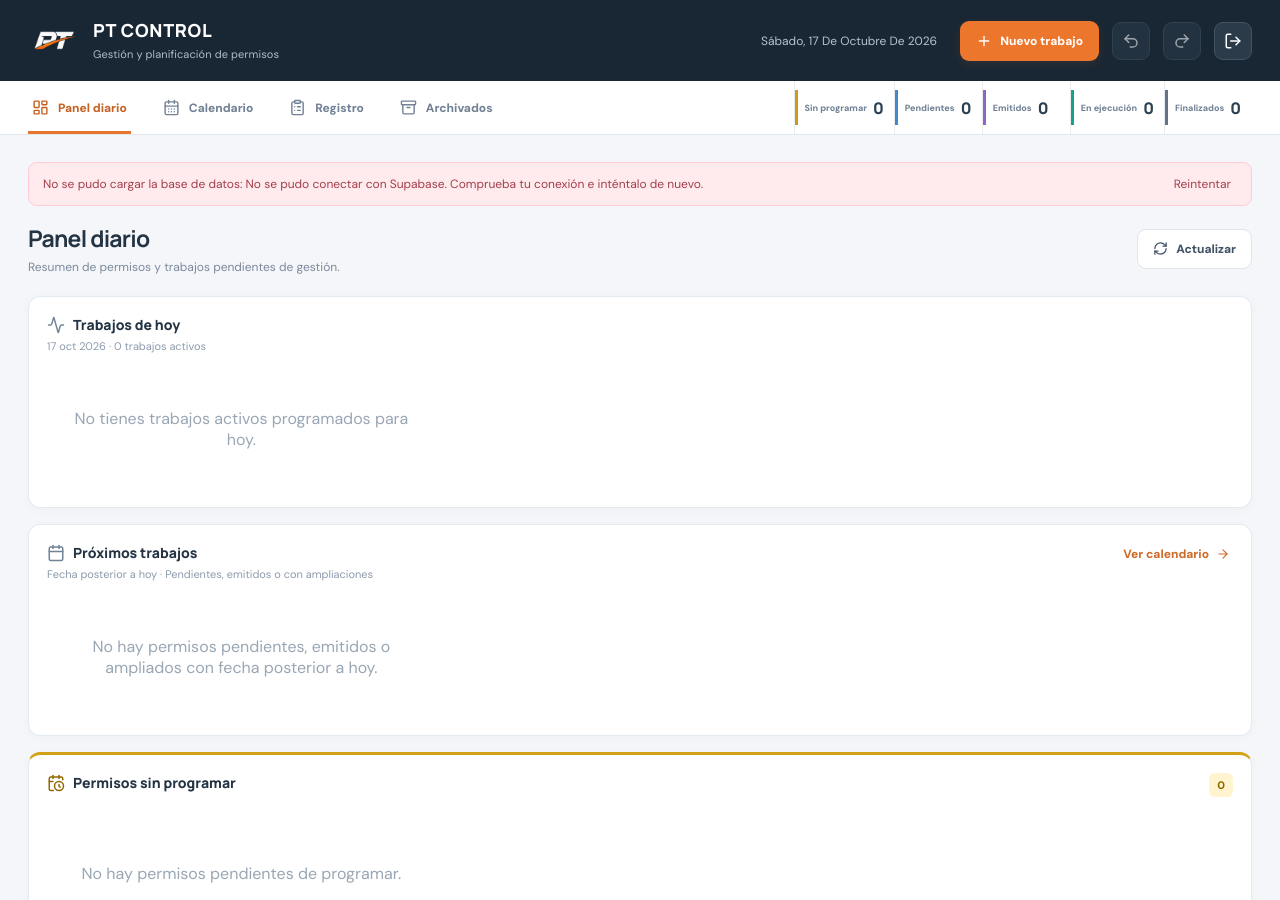
Test case: flujos completos con backend simulado solo en pruebas › bloquea la copia si falla la carga y ofrece reintentar
The width and height of the screenshot is (1280, 900).
expect the message shows "No se pudo conectar": met, box [43,176,703,192]
Click the button "Registro" at [327, 108], box [285,81,368,134]
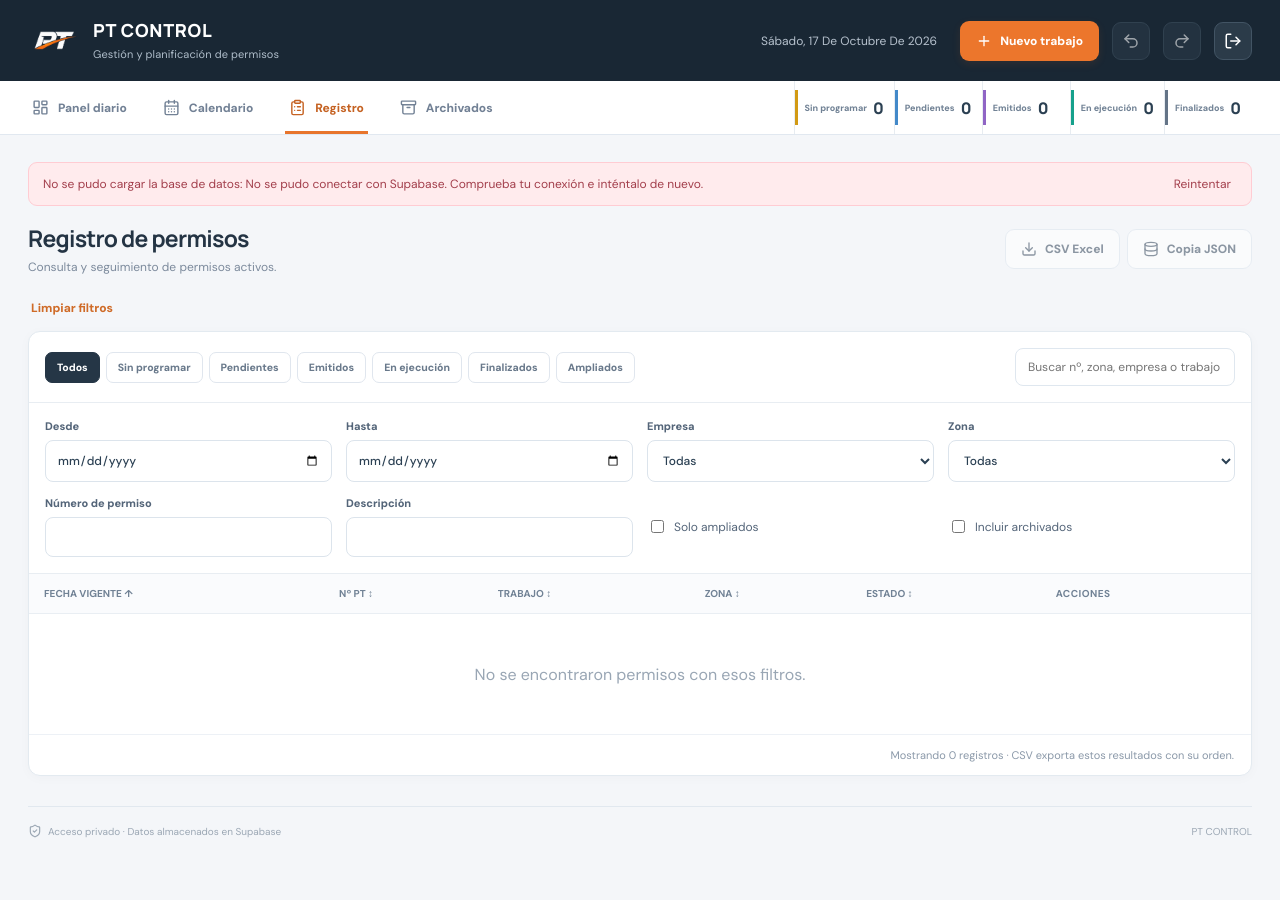
expect the button "Reintentar" is shown: met, box [1168,174,1237,194]
expect the button "Copia JSON" is disabled: met, box [1127,228,1252,268]
